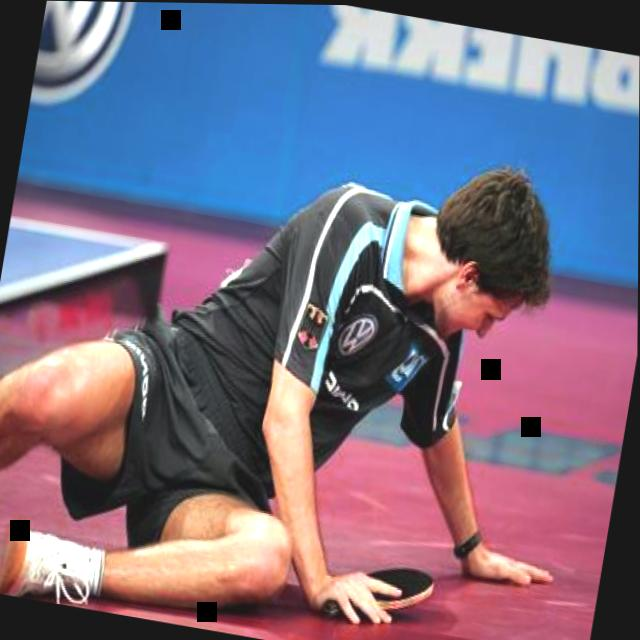Fall-Detected: (0, 59, 631, 640)
